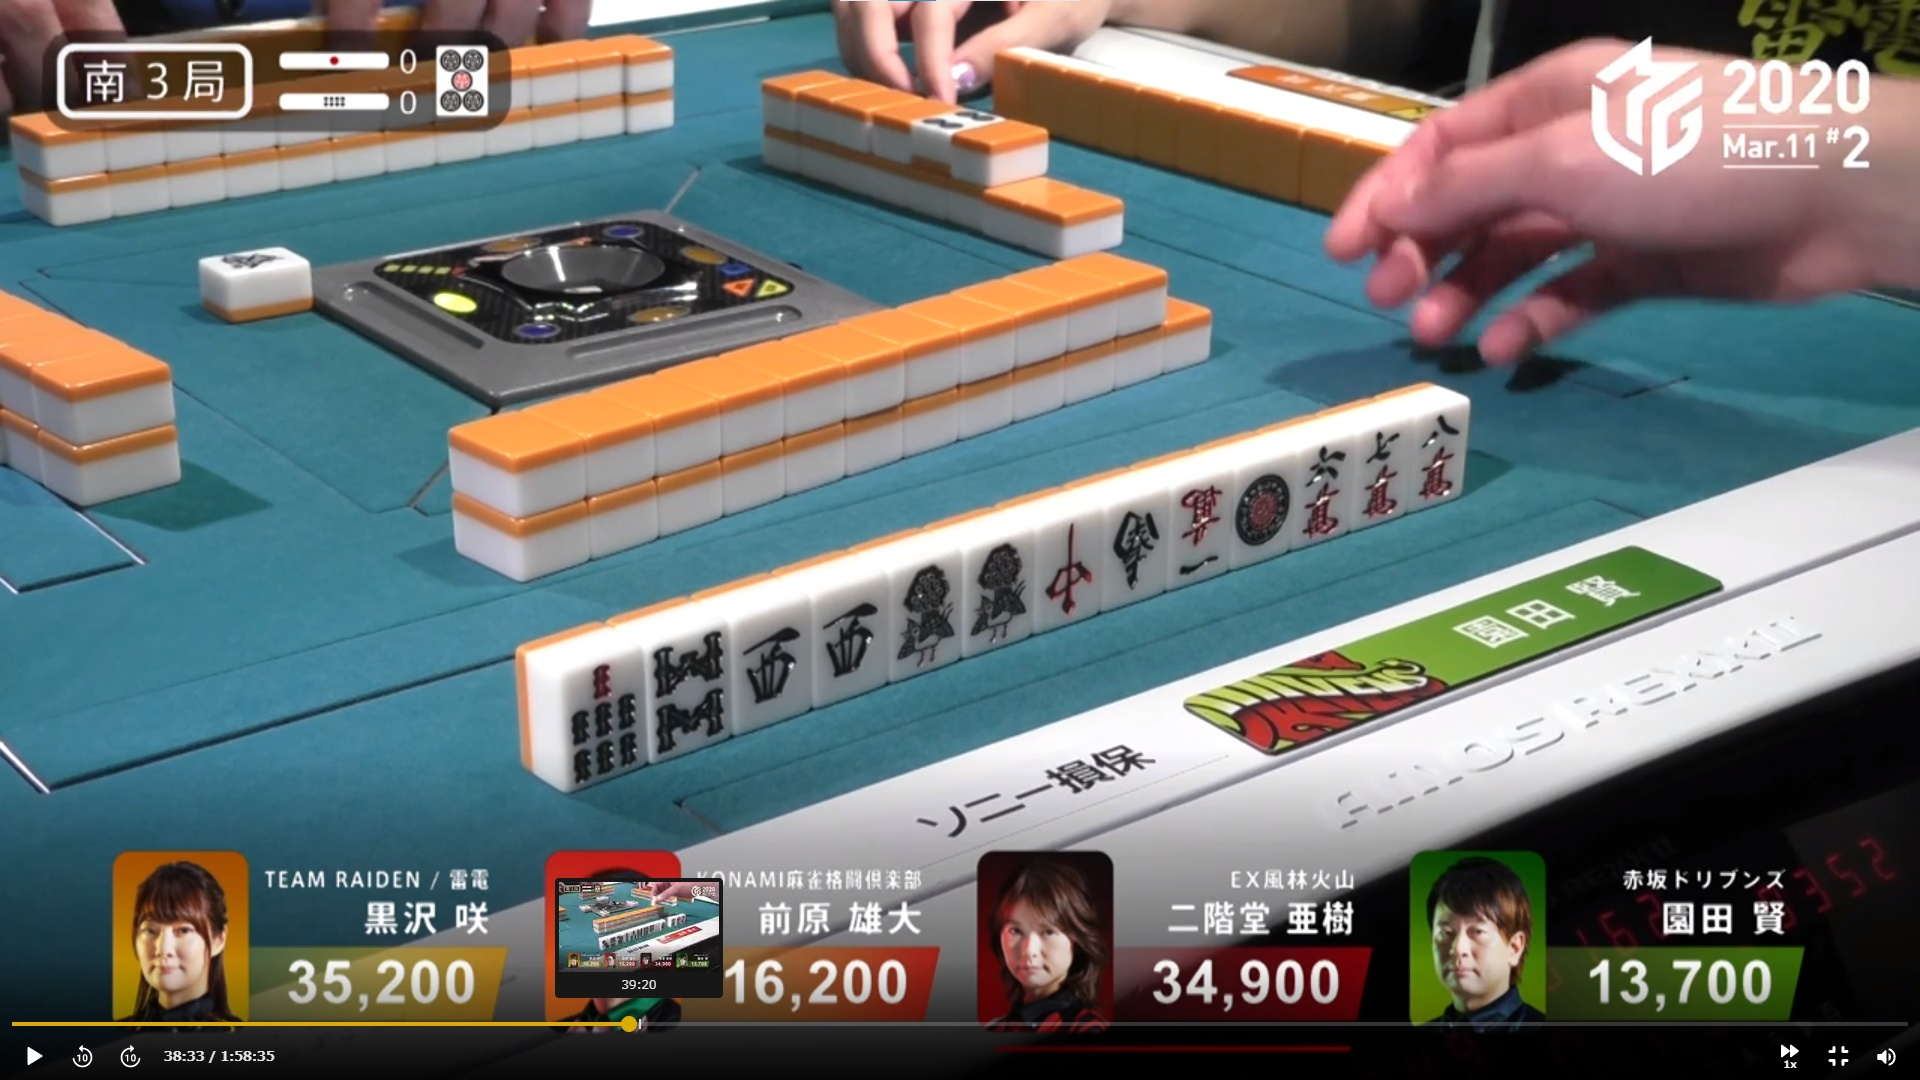1m: (1170, 471, 1230, 593)
1p: (1230, 455, 1290, 563)
1s: (959, 535, 1029, 650), (889, 554, 956, 673)
6m: (1294, 433, 1348, 545)
7m: (1352, 415, 1407, 527)
7s: (560, 650, 641, 782)
8m: (1412, 404, 1464, 512)
8s: (644, 624, 728, 757)
chun: (1030, 518, 1101, 633)
hand_nan_3: (50, 33, 272, 123)
nan: (1104, 495, 1164, 608)
round_0: (278, 80, 419, 117)
sha: (727, 604, 804, 731), (810, 579, 889, 700)
team_drivens: (1179, 633, 1465, 756)
